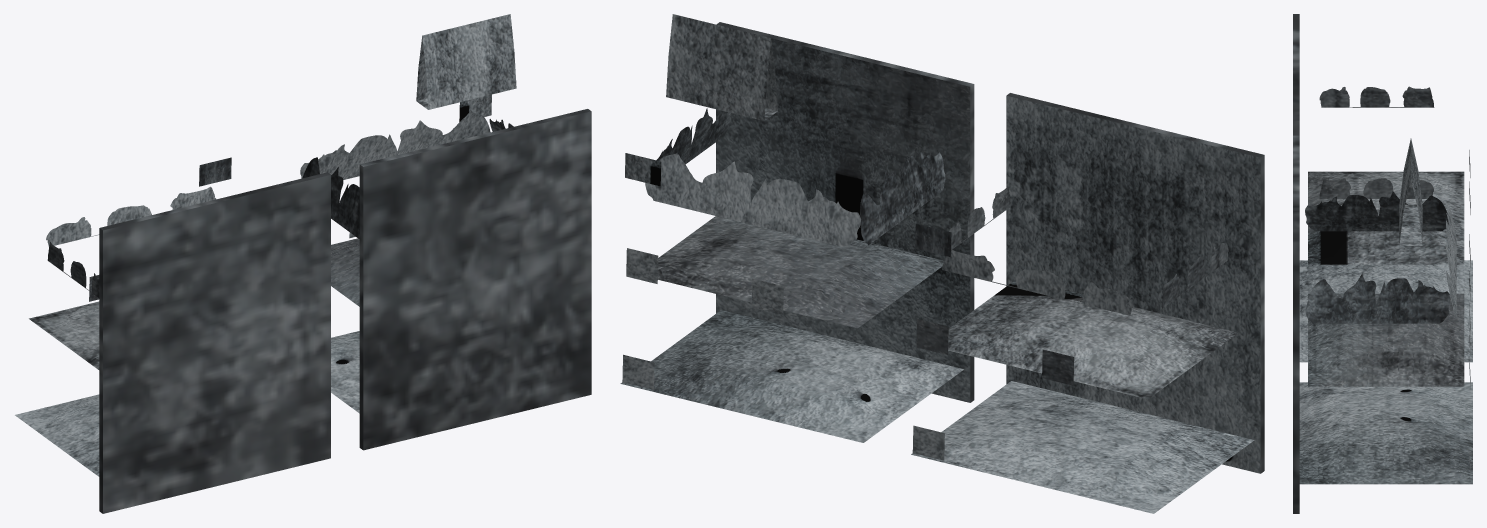
The model's file is store_25.obj.
The picture shows the model from 3 angles, left to right: view 1: azimuth 30°, elevation 25°; view 2: azimuth 150°, elevation 25°; view 3: azimuth 270°, elevation 25°; orthographic projection. The views are drawn at different scales.
Size of the model in its own units: 88.94 by 59.22 by 29.61.
